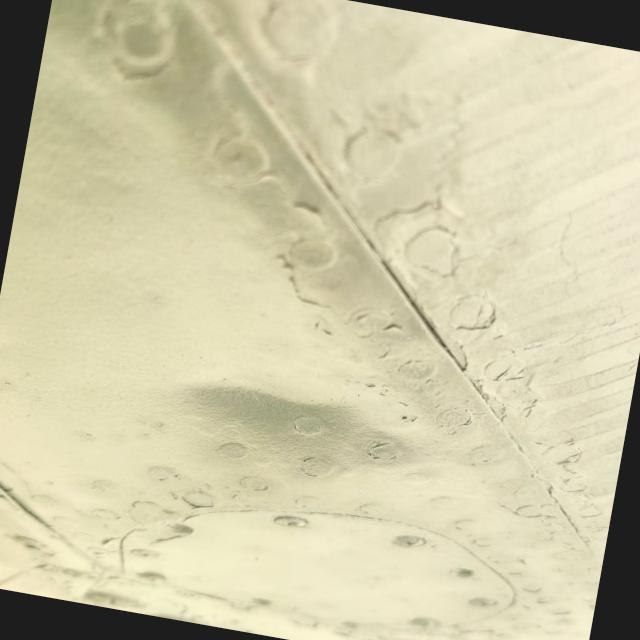dent: (156, 364, 414, 522)
